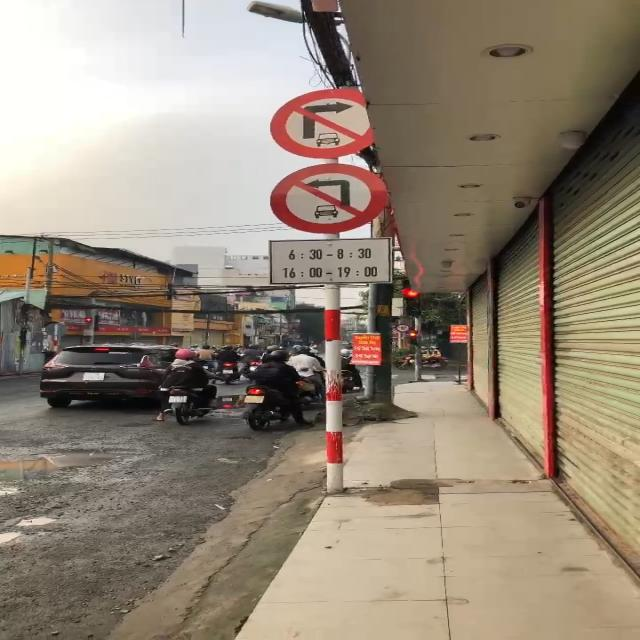Bien bao cam xe o to re phai: (260, 88, 390, 160)
Bien bao cam xe o to re trai: (262, 158, 408, 238)
